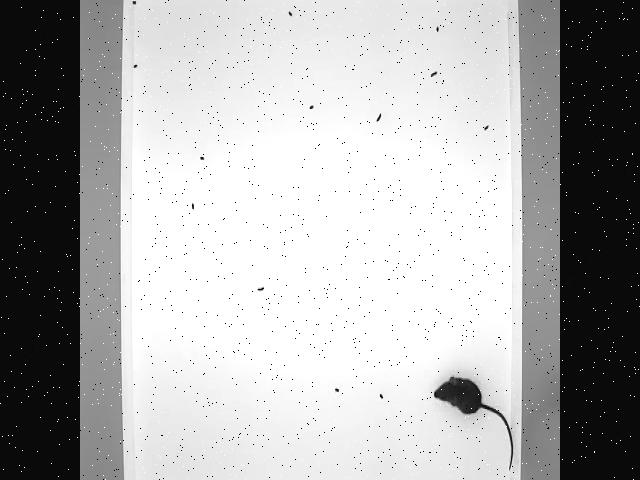Tikus: (431, 374, 515, 472)
